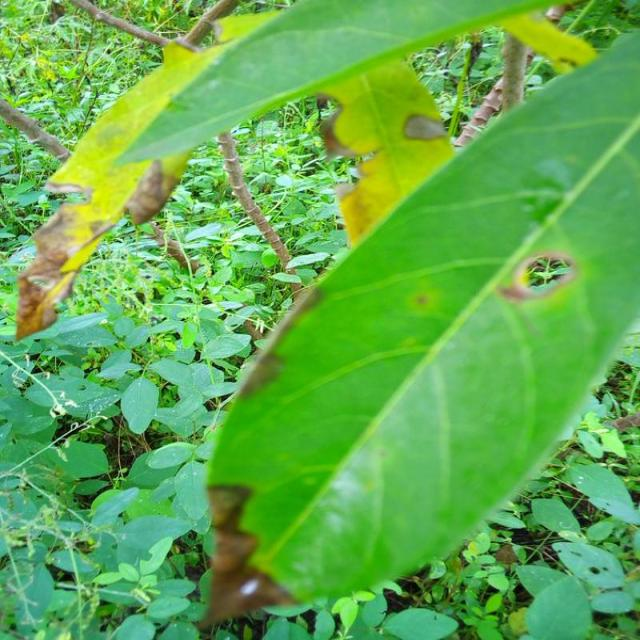cassava leaf: (202, 26, 638, 616), (13, 0, 594, 341)
